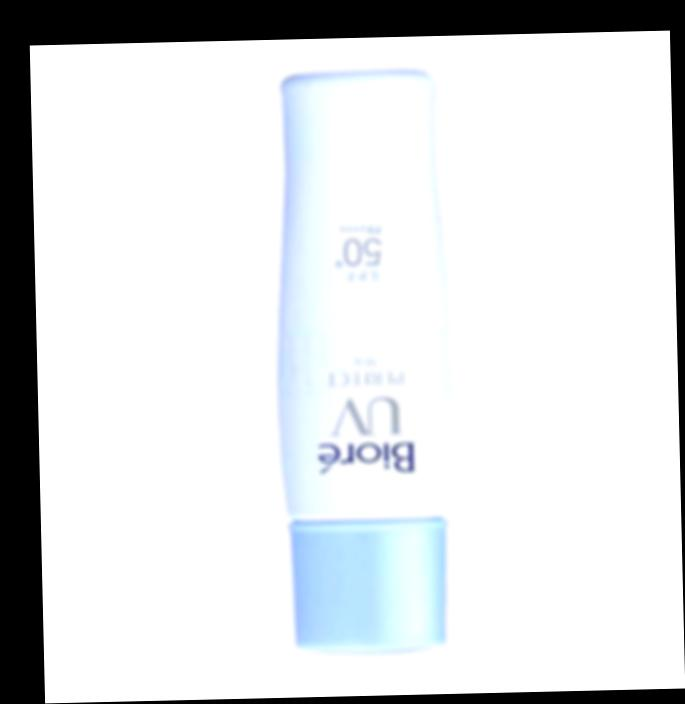cosmetic: (272, 74, 454, 647)
